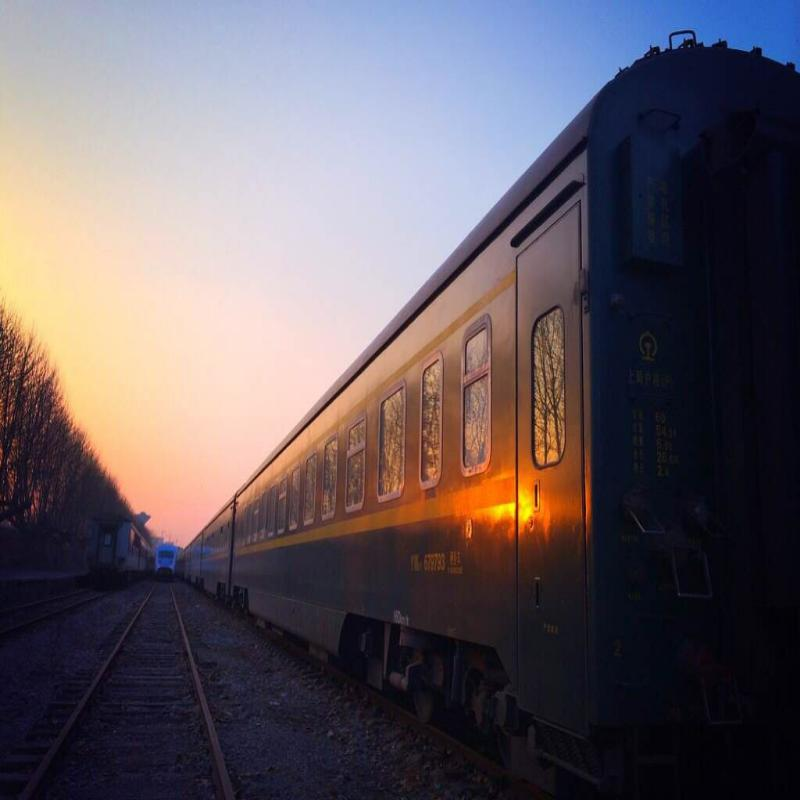train: (187, 115, 800, 737)
